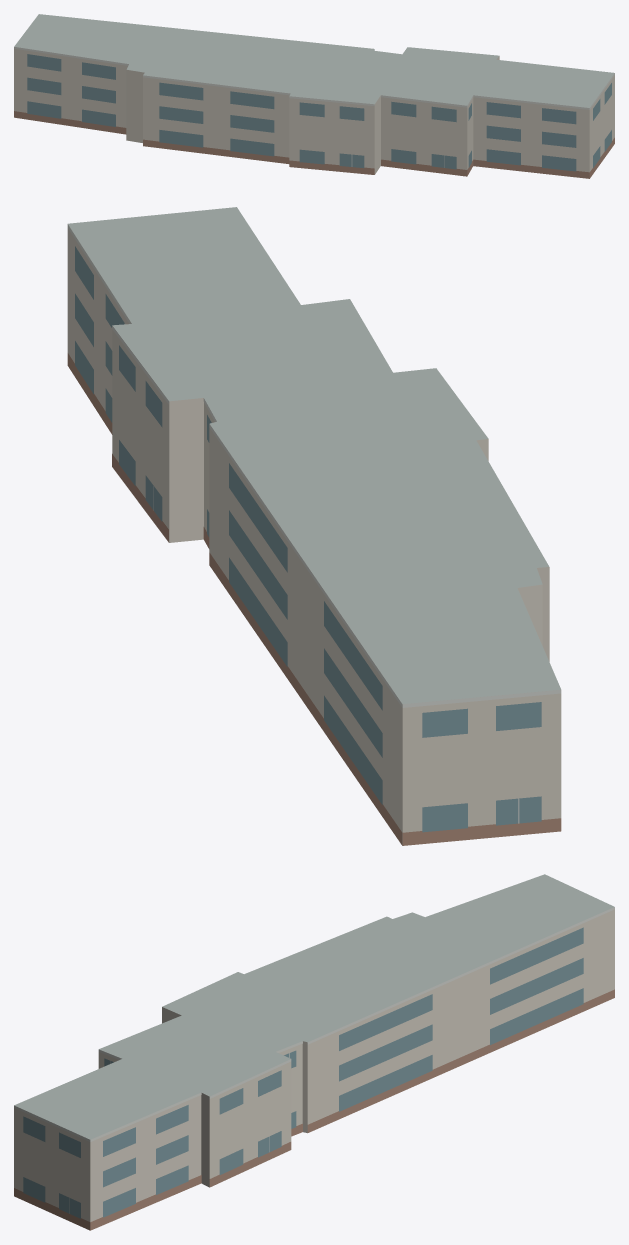
The model's file is survey-upis-32822004.glb.
The picture shows the model from 3 angles, top to bottom: view 1: azimuth 30°, elevation 25°; view 2: azimuth 150°, elevation 25°; view 3: azimuth 270°, elevation 25°; orthographic projection. The views are drawn at different scales.
Visible parts, largest first — view 1: survey-upis-32822004.tmp; view 2: survey-upis-32822004.tmp; view 3: survey-upis-32822004.tmp.
Part boxes in pixels (bbox=[...]): survey-upis-32822004.tmp: bbox=[14, 14, 614, 178]; survey-upis-32822004.tmp: bbox=[67, 207, 561, 845]; survey-upis-32822004.tmp: bbox=[14, 874, 614, 1230].
Size of the model in its own units: 57.31 by 9.15 by 54.8.
